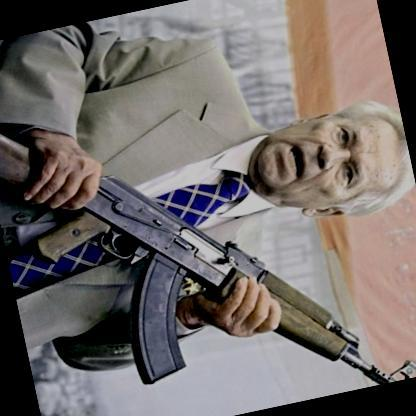rifle: (0, 24, 414, 416)
